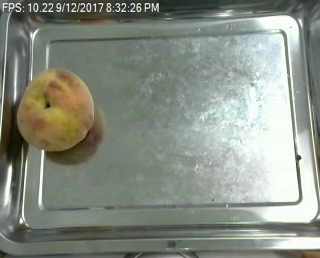Peach: (16, 65, 96, 151)
